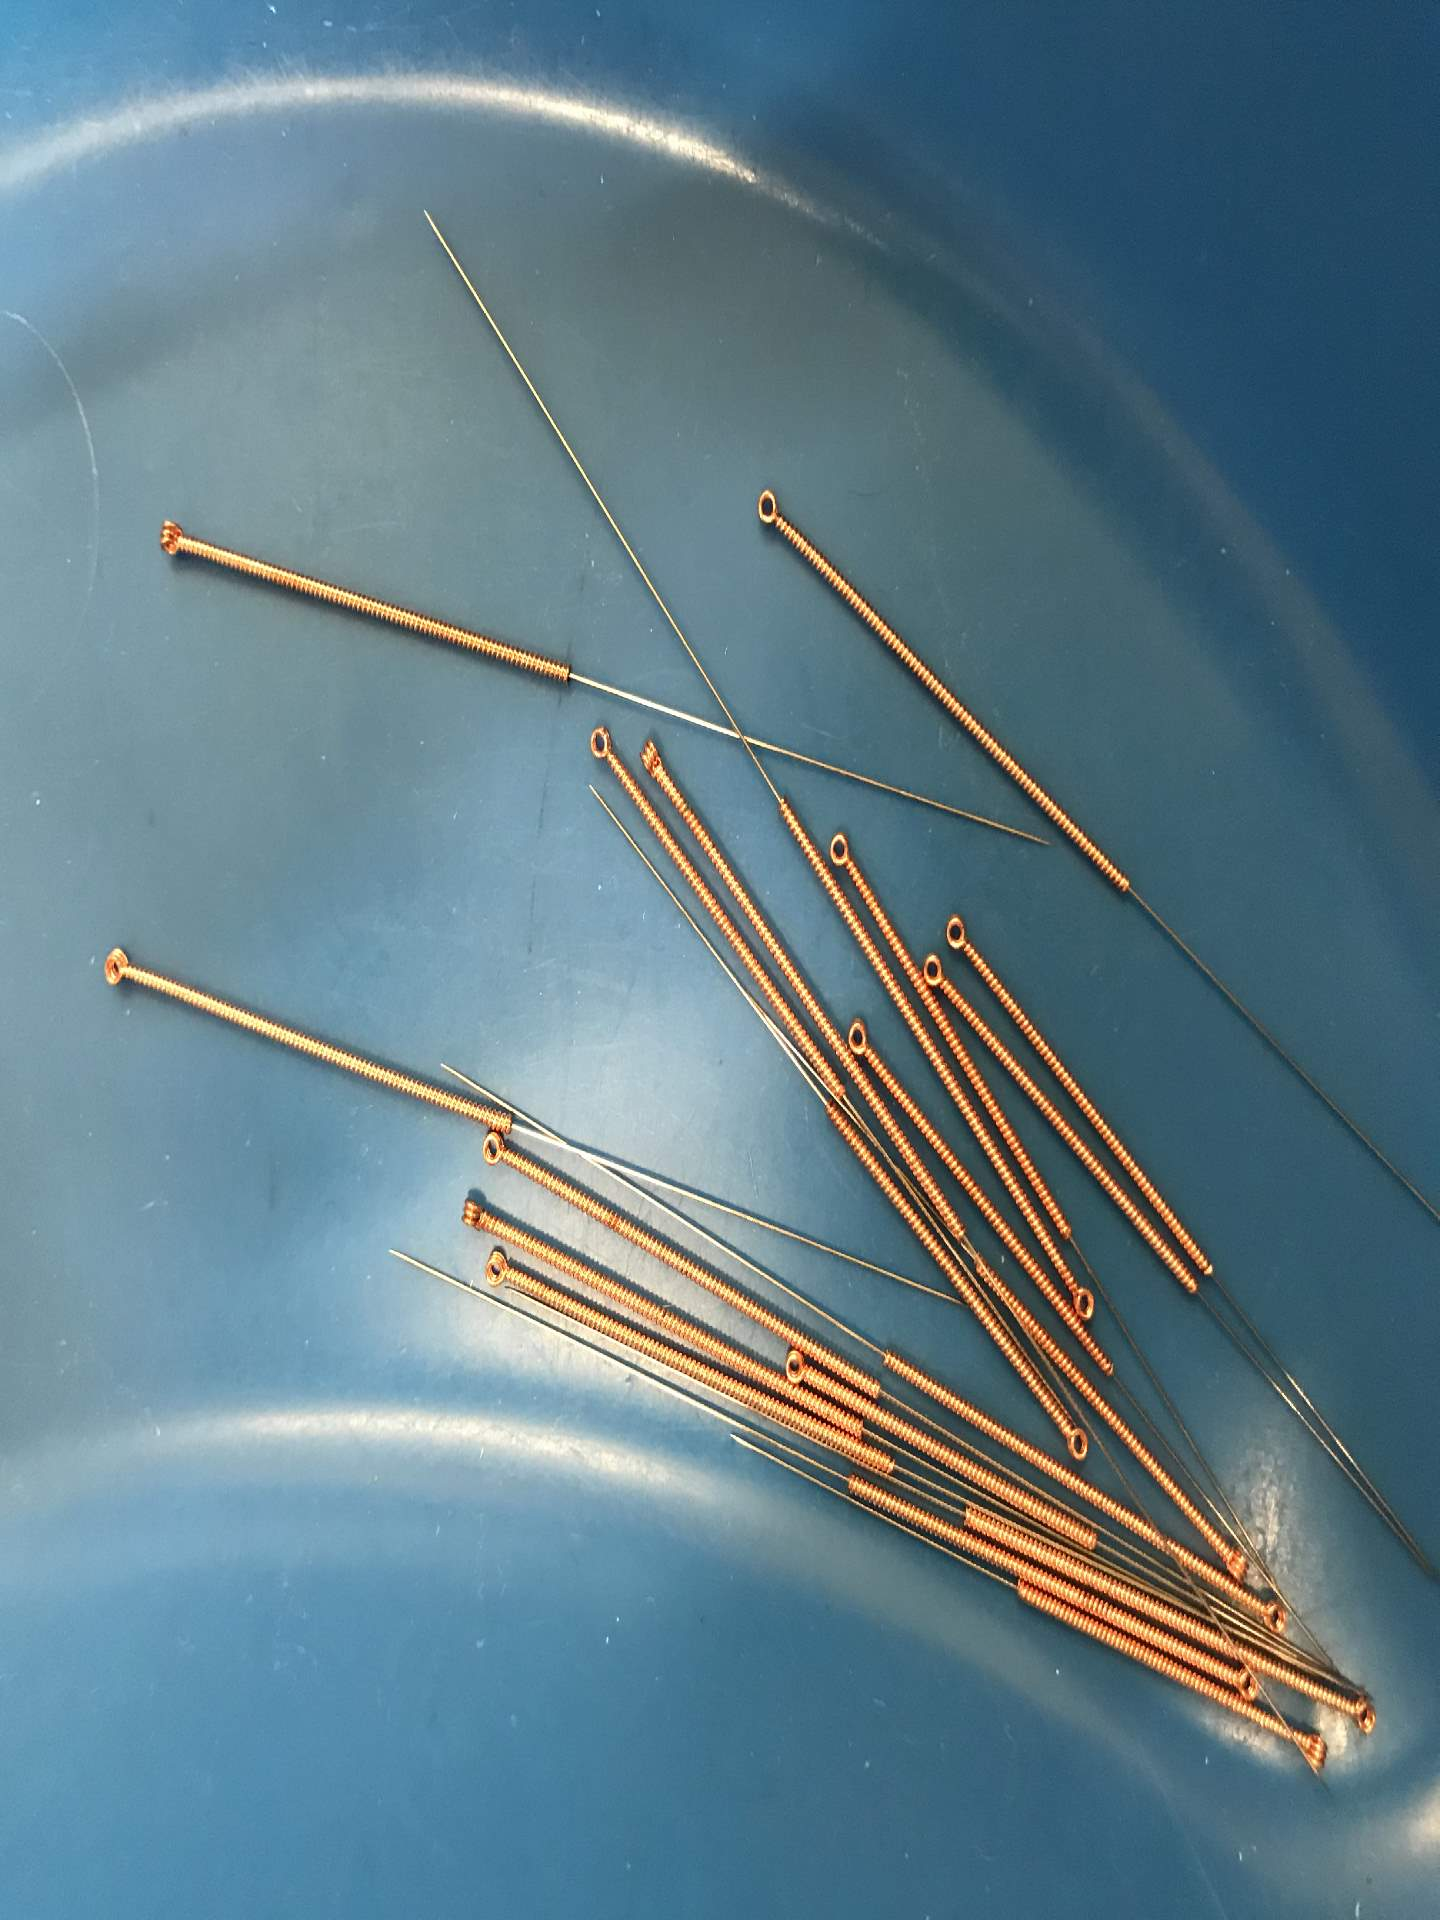needle: (86, 936, 150, 999), (141, 509, 200, 568), (743, 481, 793, 537), (579, 720, 620, 774), (632, 732, 672, 788), (1289, 1726, 1336, 1773), (466, 1131, 519, 1172), (1249, 1590, 1293, 1637), (1342, 1690, 1383, 1739), (1056, 1420, 1097, 1465), (936, 909, 976, 955), (452, 1193, 492, 1237), (1219, 1541, 1257, 1586), (479, 1246, 516, 1293), (920, 949, 953, 996), (824, 830, 858, 875), (844, 1014, 874, 1064), (1069, 1274, 1100, 1321), (781, 1349, 814, 1388), (1231, 1668, 1263, 1704)
